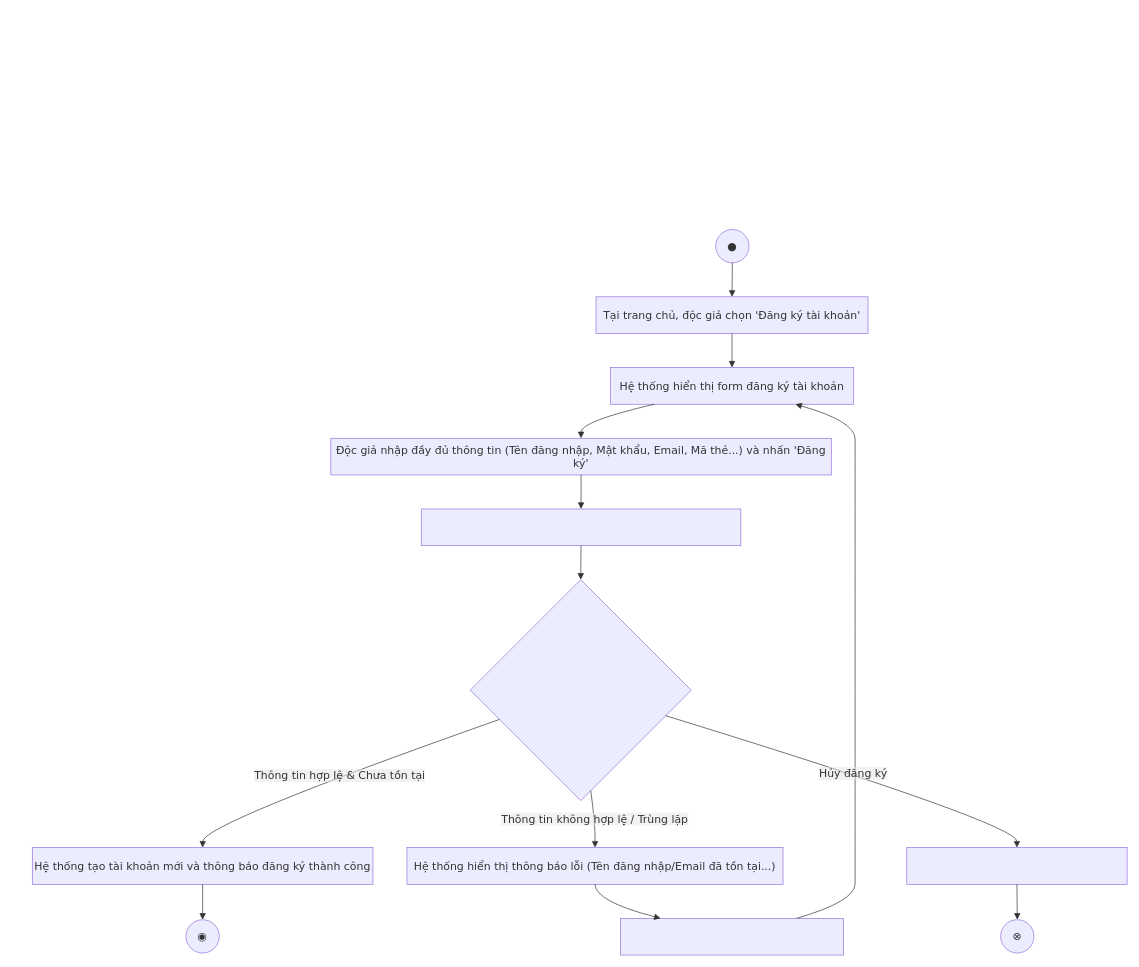
Some shapes in this 1139 by 967 pixel diagram are drawn without their labels. Each missing label, with the centre of its shape:
"Hệ thống kiểm tra tính hợp lệ và trùng lặp của thông tin" goes at point (581, 527).
"Kết quả kiểm tra thông tin" goes at point (580, 690).
"Độc giả chọn điều chỉnh lại thông tin" goes at point (732, 936).
"Độc giả thoát khỏi giao diện đăng ký" goes at point (1016, 865).
